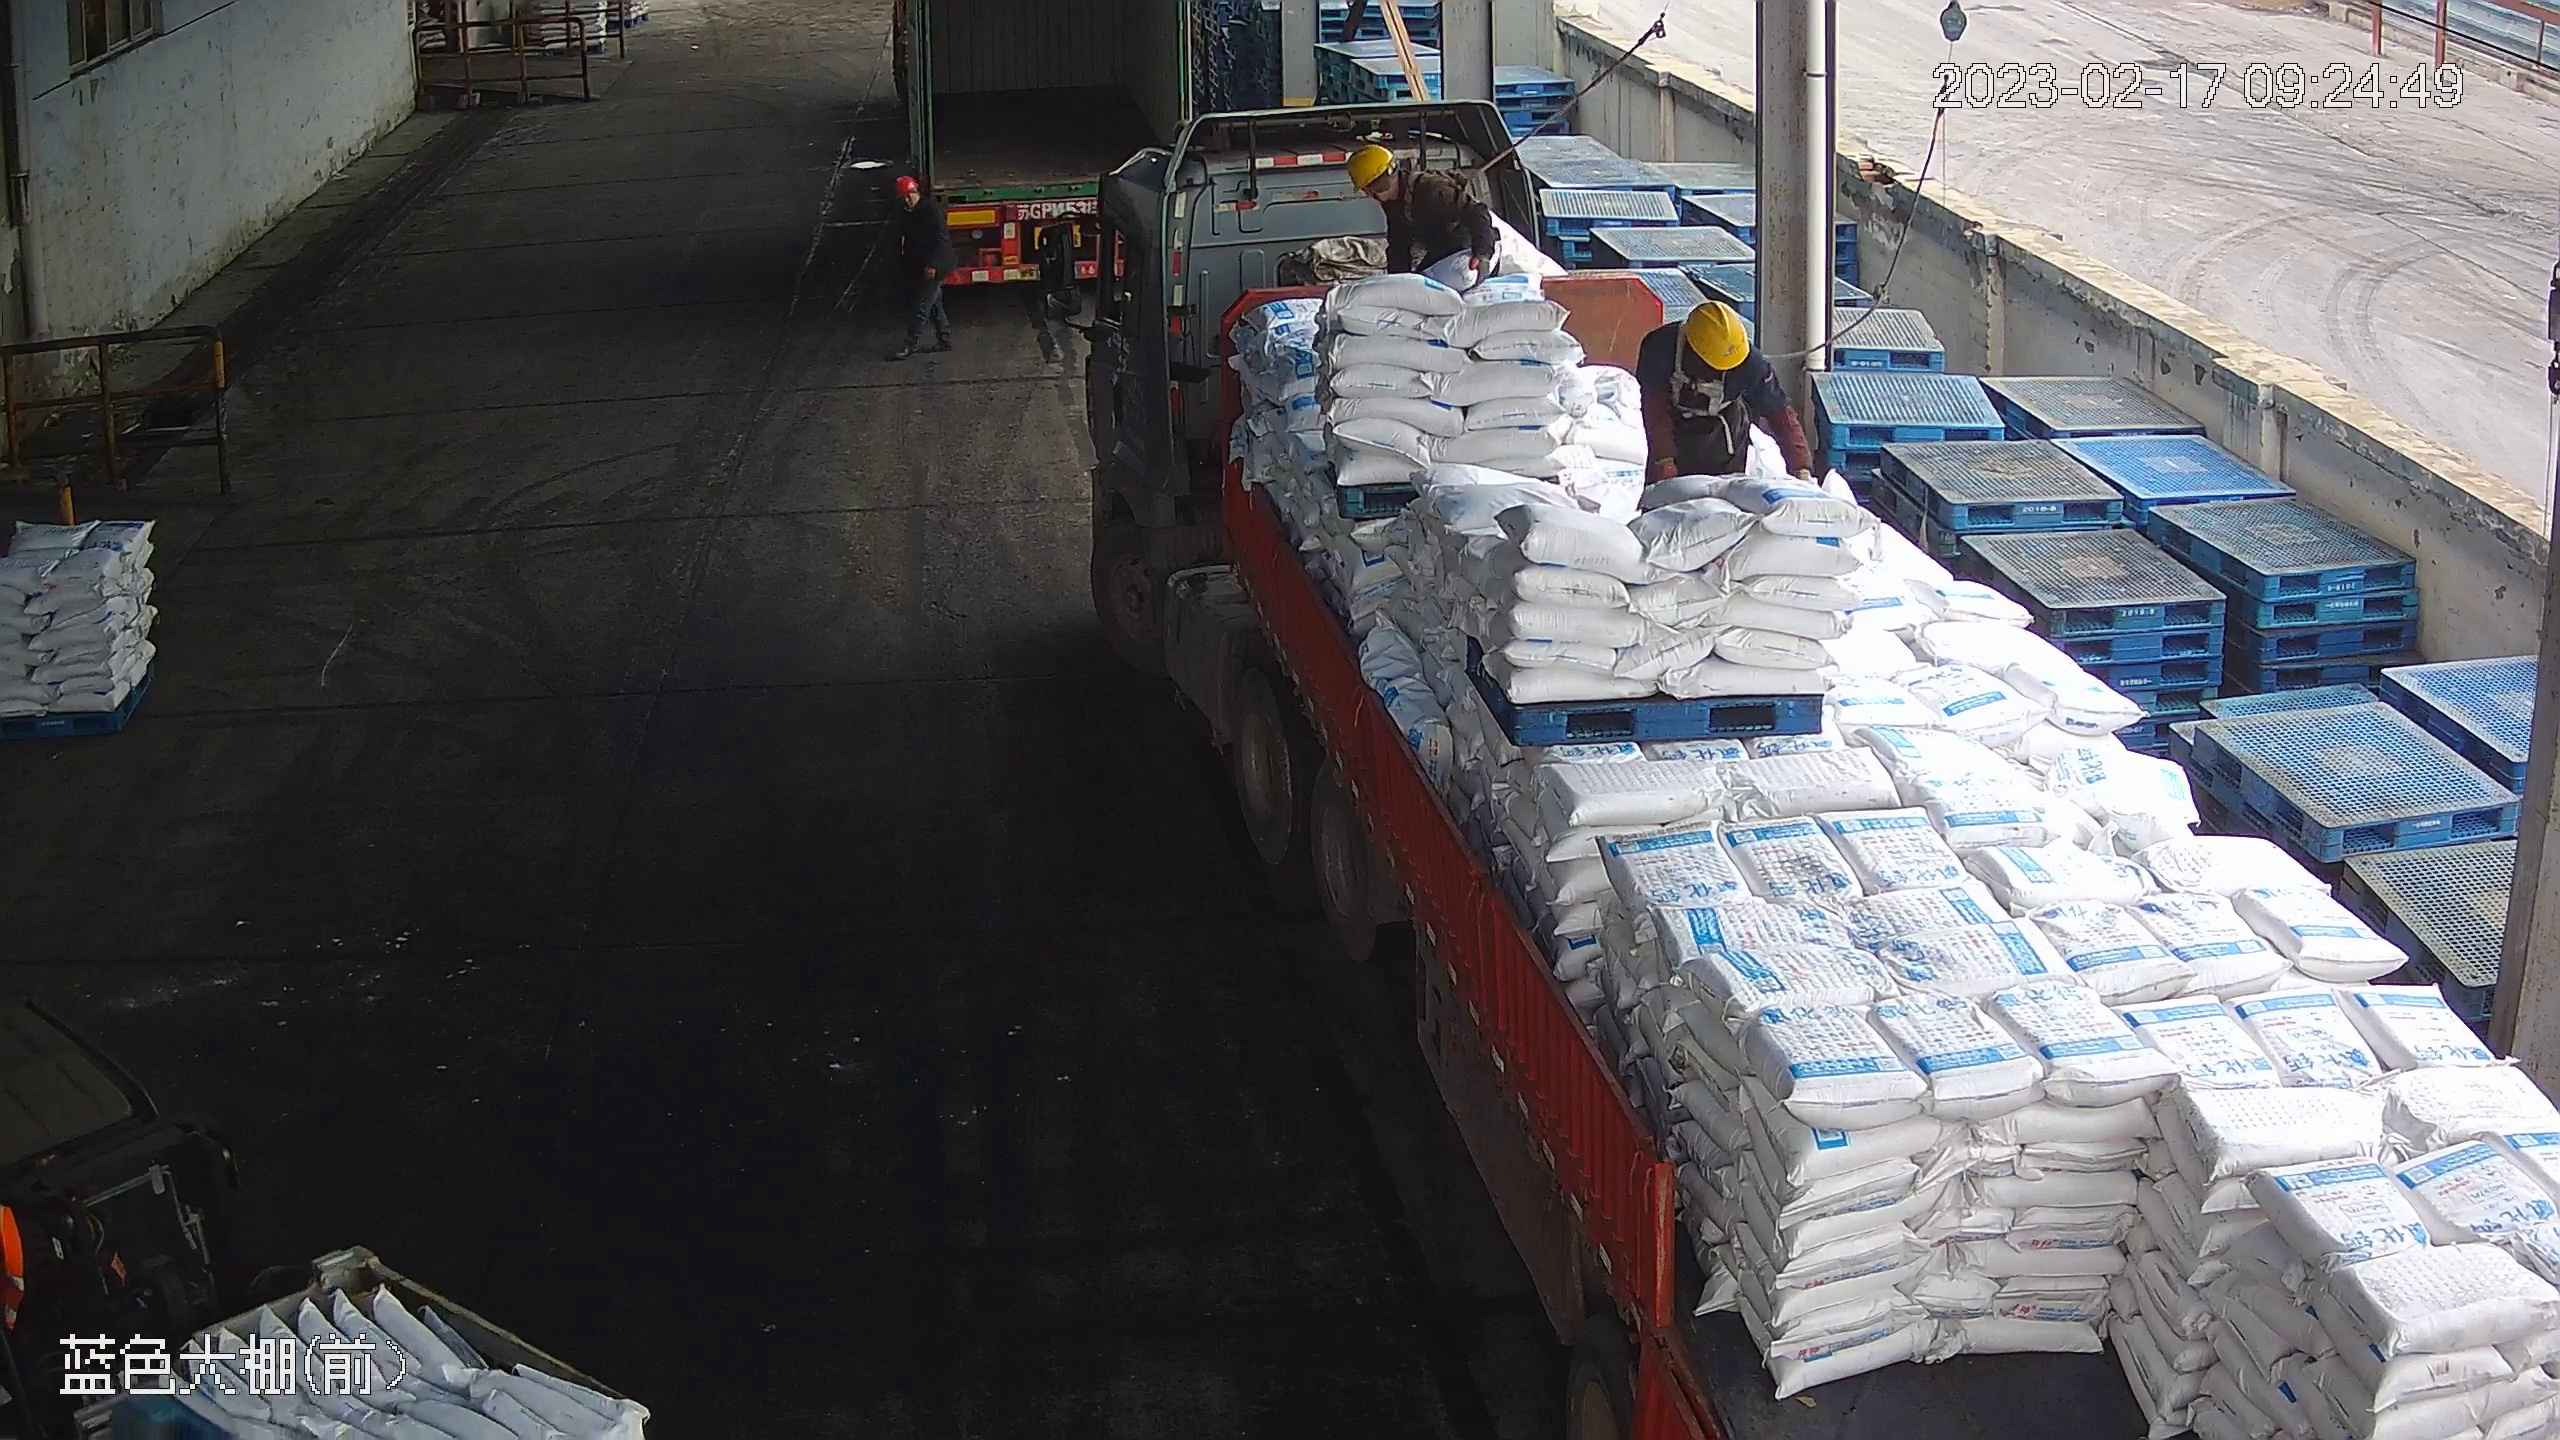belt: (1670, 341, 1735, 428)
head: (1644, 295, 1773, 391), (1345, 142, 1447, 227), (885, 170, 937, 238)
helmet: (1686, 297, 1748, 369), (1342, 138, 1396, 189), (889, 171, 918, 195)
people: (1633, 295, 1818, 502), (883, 167, 946, 357)
truck: (1039, 140, 2559, 1440), (875, 1, 1195, 291)
